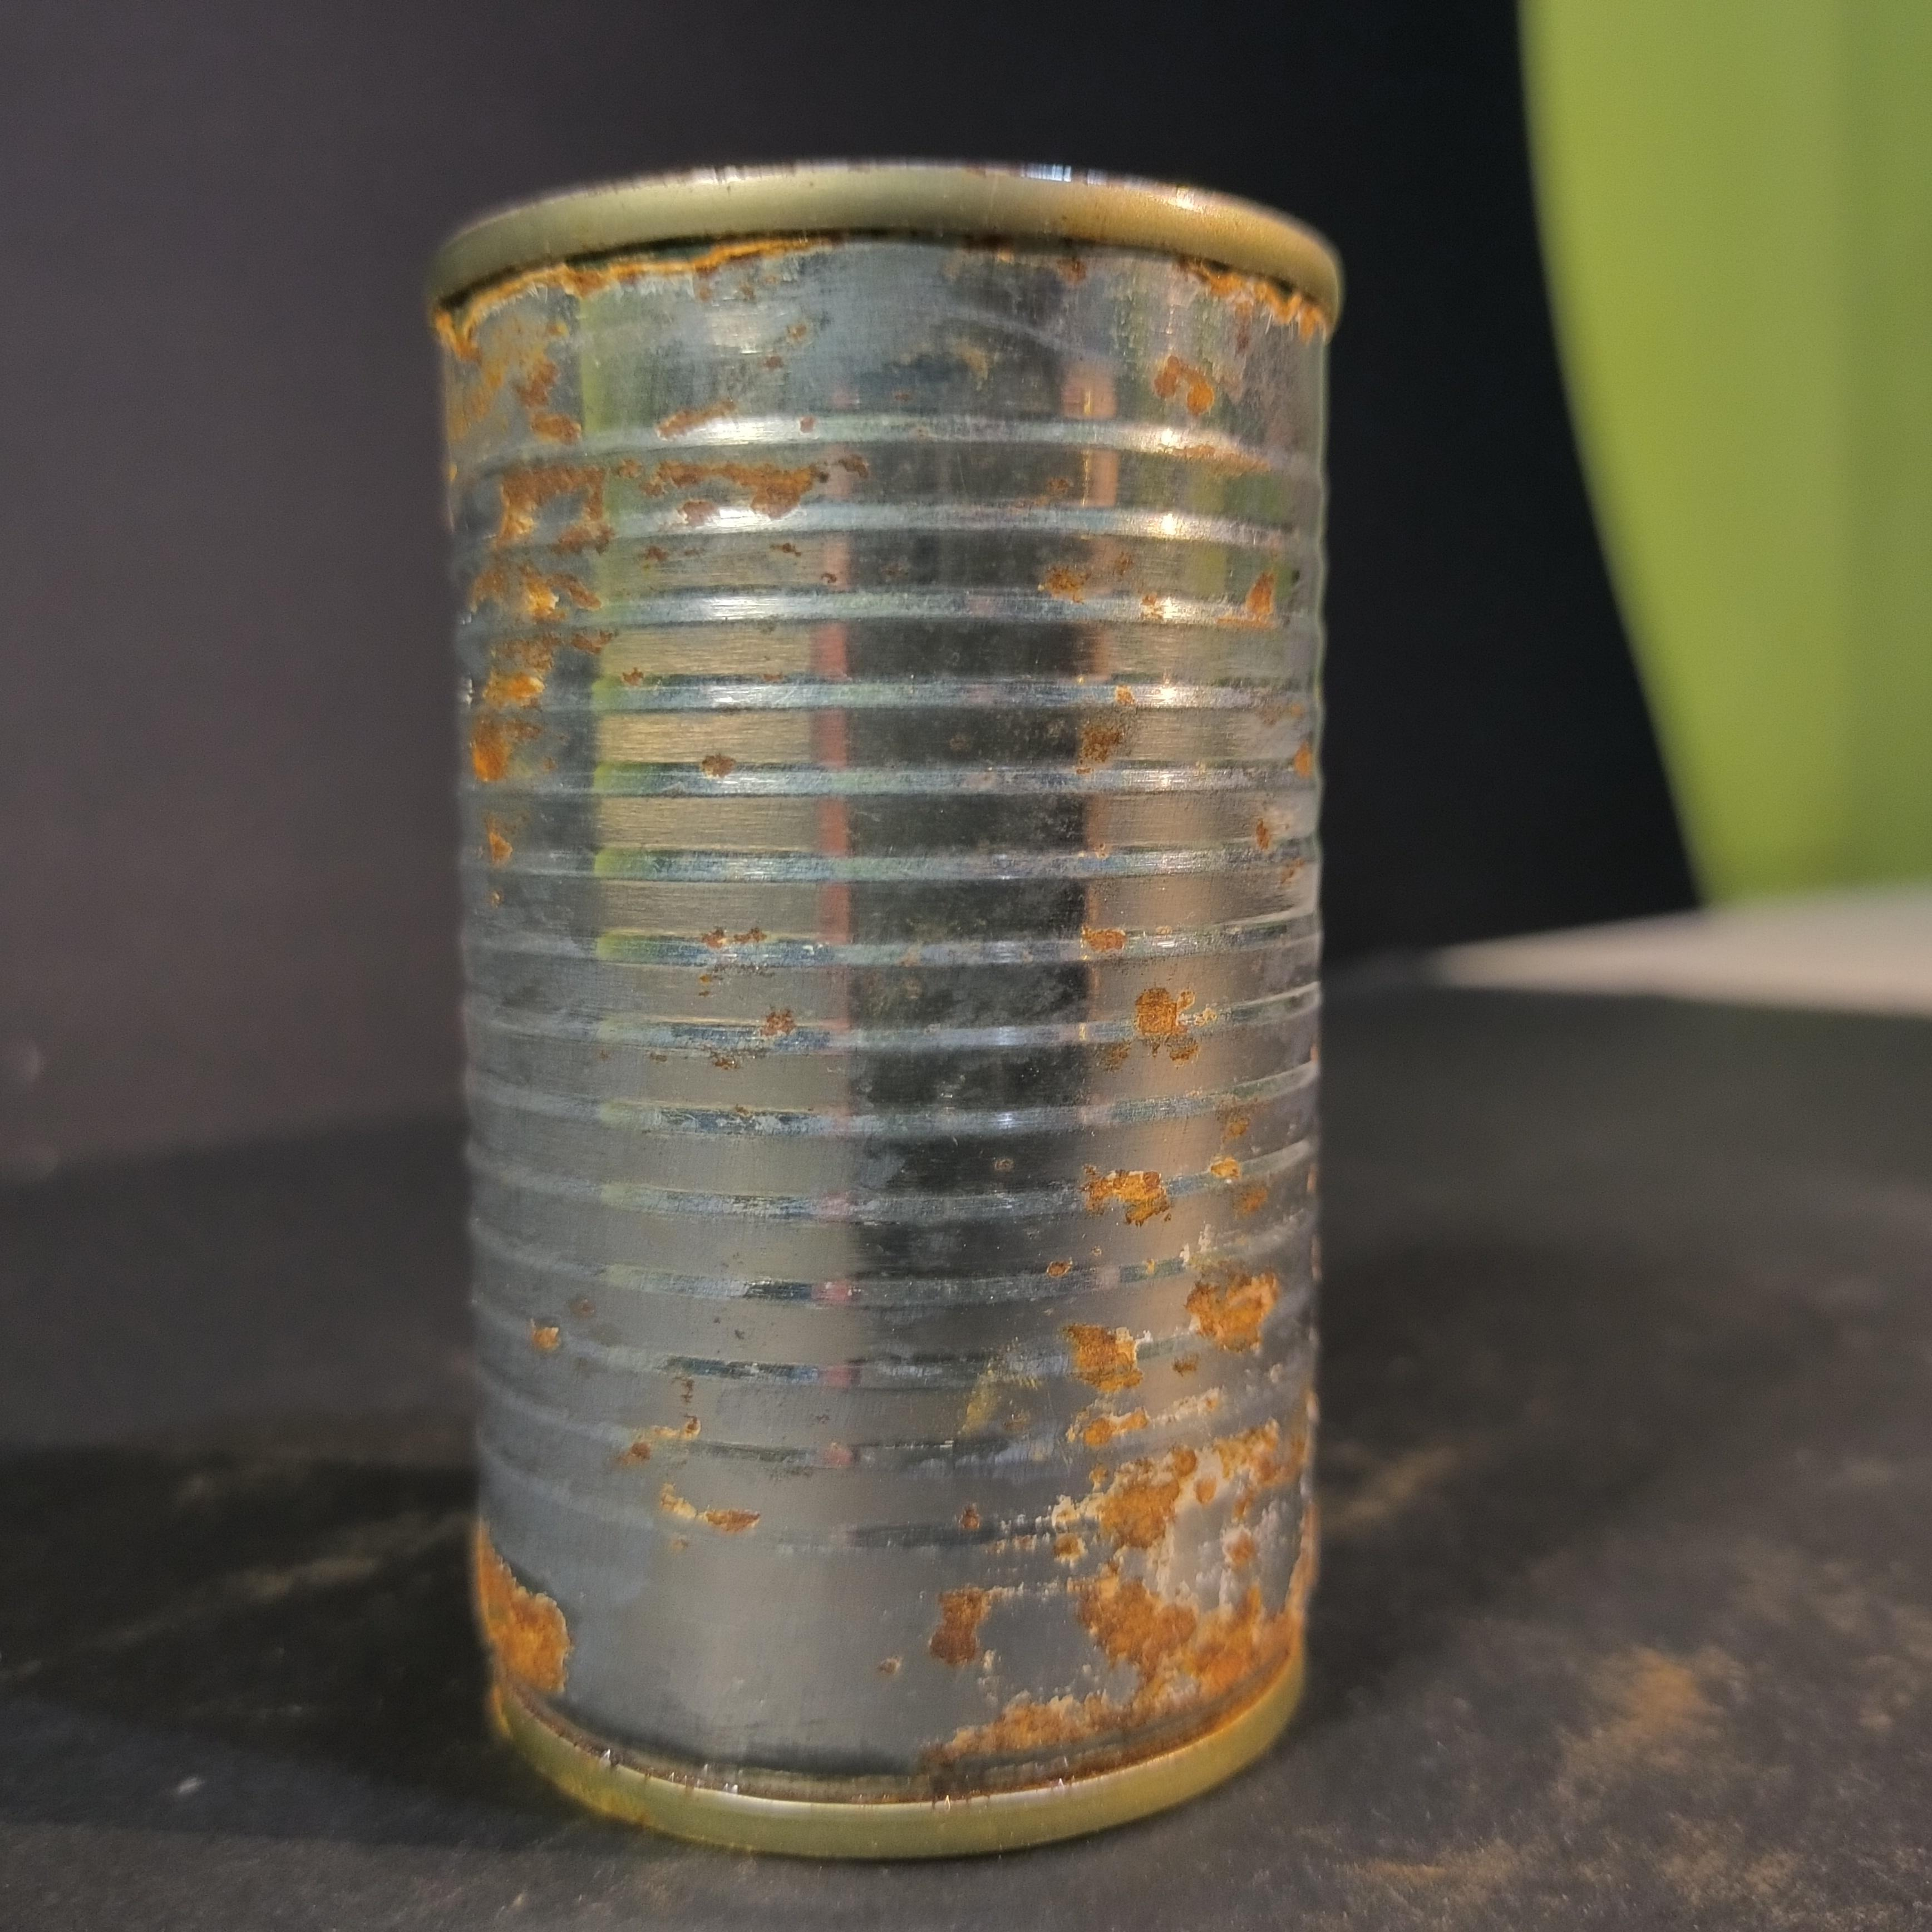Rusted: (414, 133, 1355, 1845)
